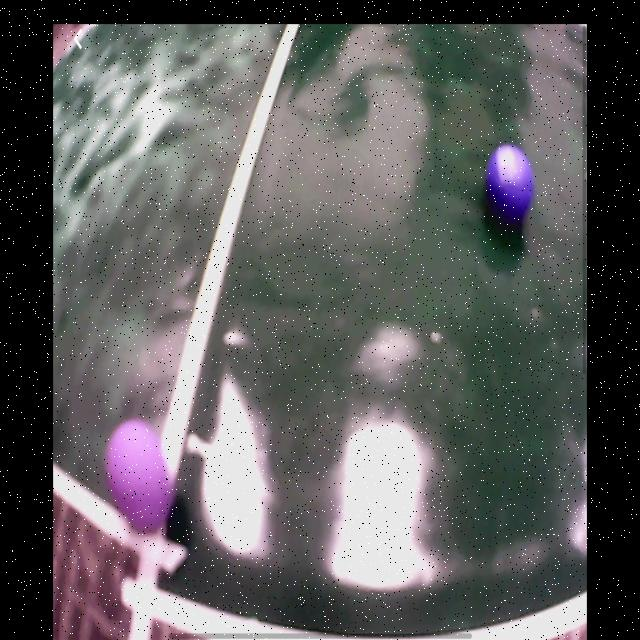ball: (106, 422, 171, 530), (486, 142, 536, 229)
